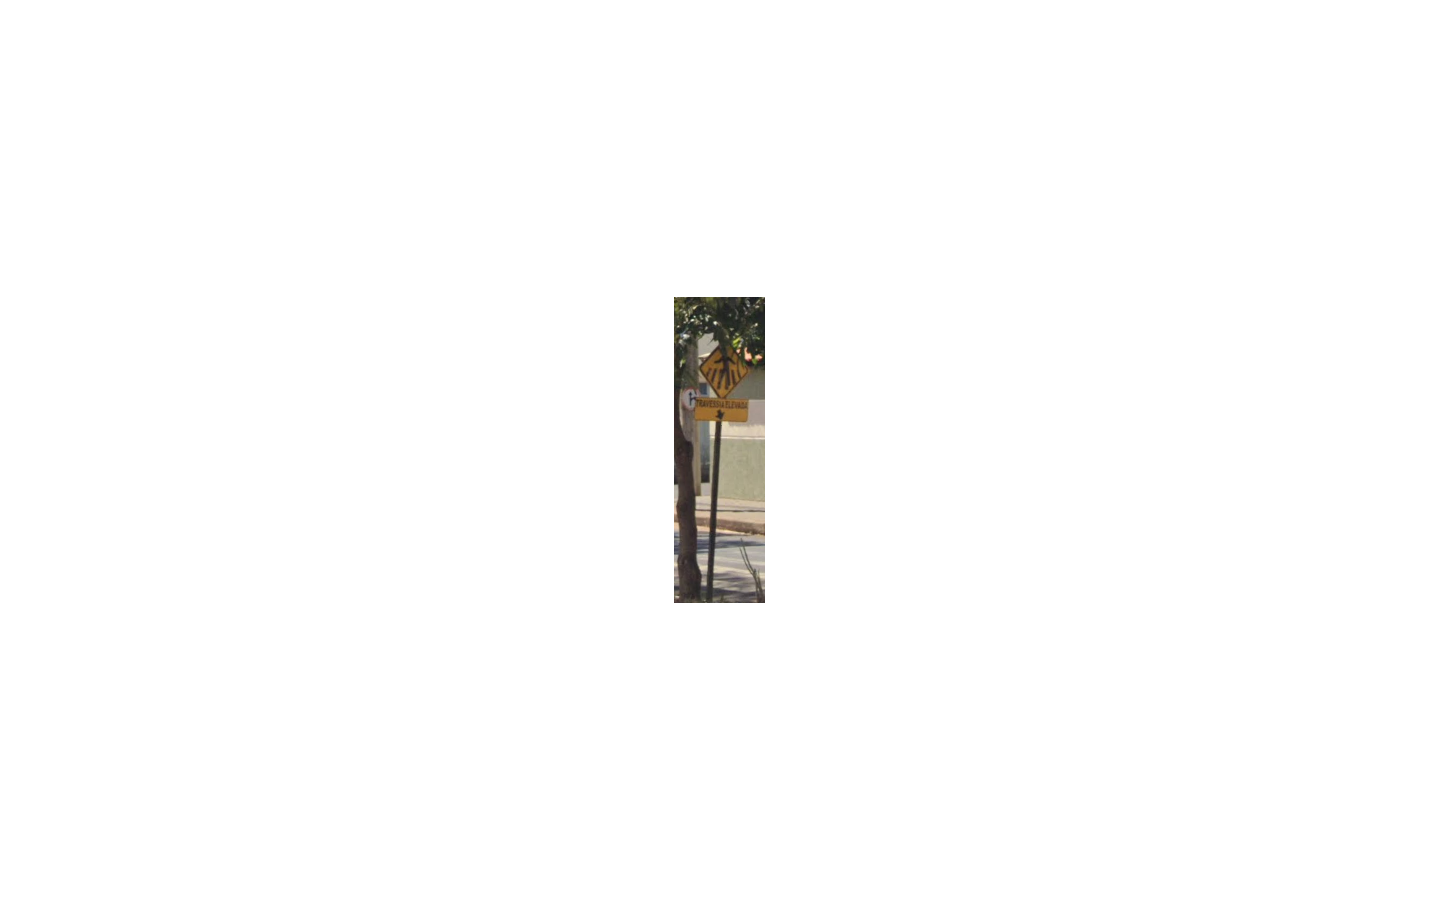telev: (694, 341, 749, 422)
